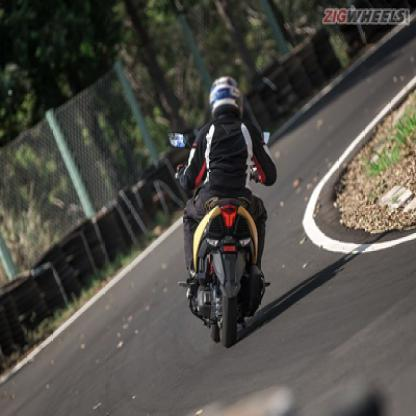Helmet: (208, 70, 247, 123)
